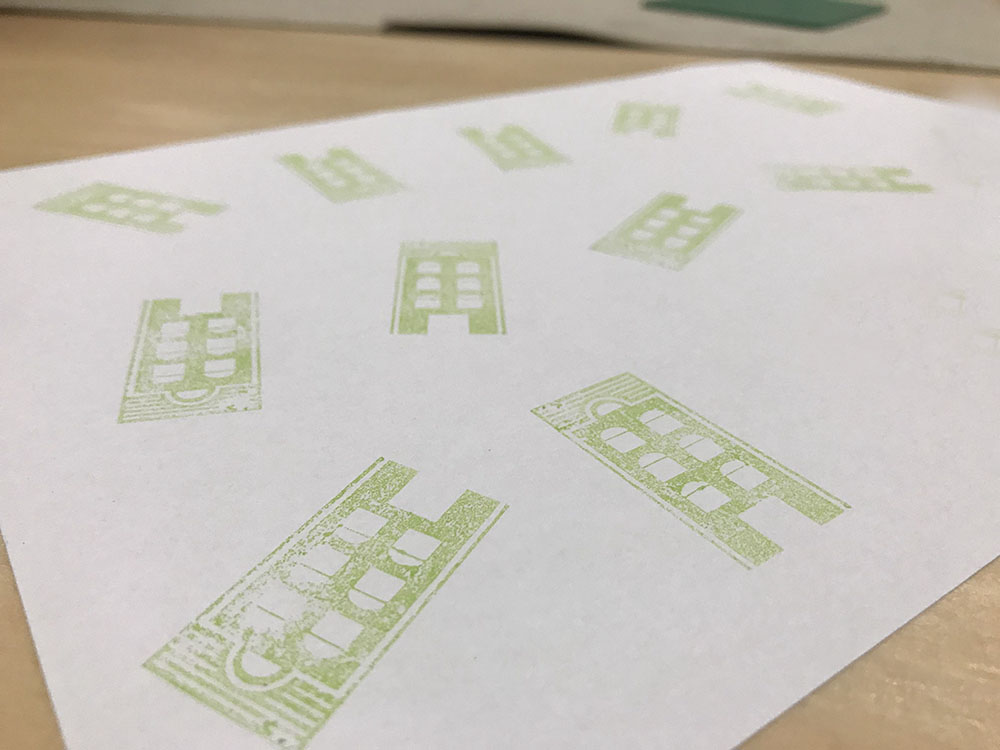build: (105, 440, 526, 750), (516, 362, 871, 593), (101, 279, 289, 440), (23, 162, 245, 249), (580, 179, 741, 287), (376, 234, 527, 345), (754, 145, 947, 224), (264, 136, 423, 217), (444, 112, 585, 188), (596, 87, 696, 154)
